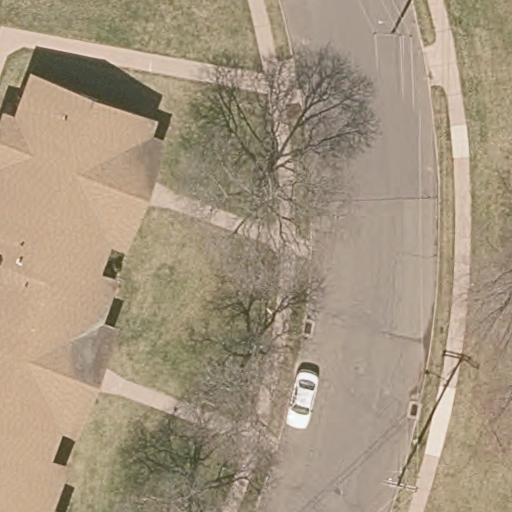DT: (381, 443, 421, 492), (373, 1, 415, 40)
